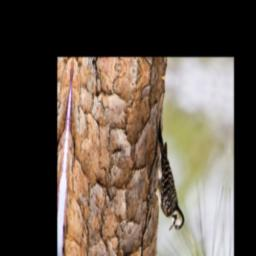Woodpecker: (145, 114, 192, 234)
